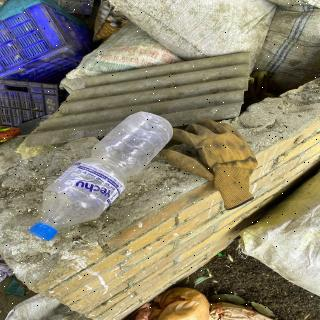Plastic-bottle: (28, 110, 177, 245)
